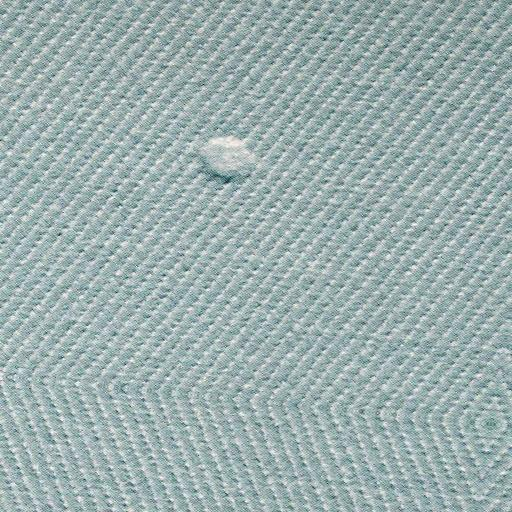knot: (179, 125, 268, 195)
